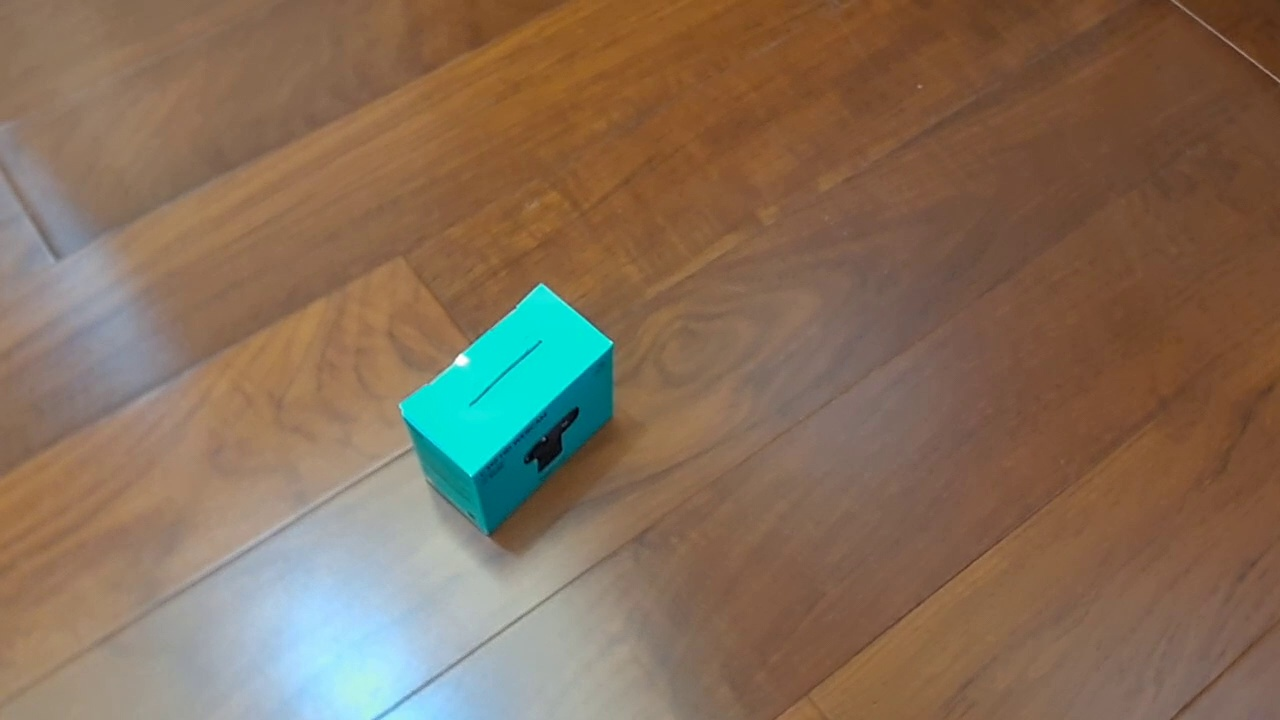webcam: (397, 282, 615, 537)
